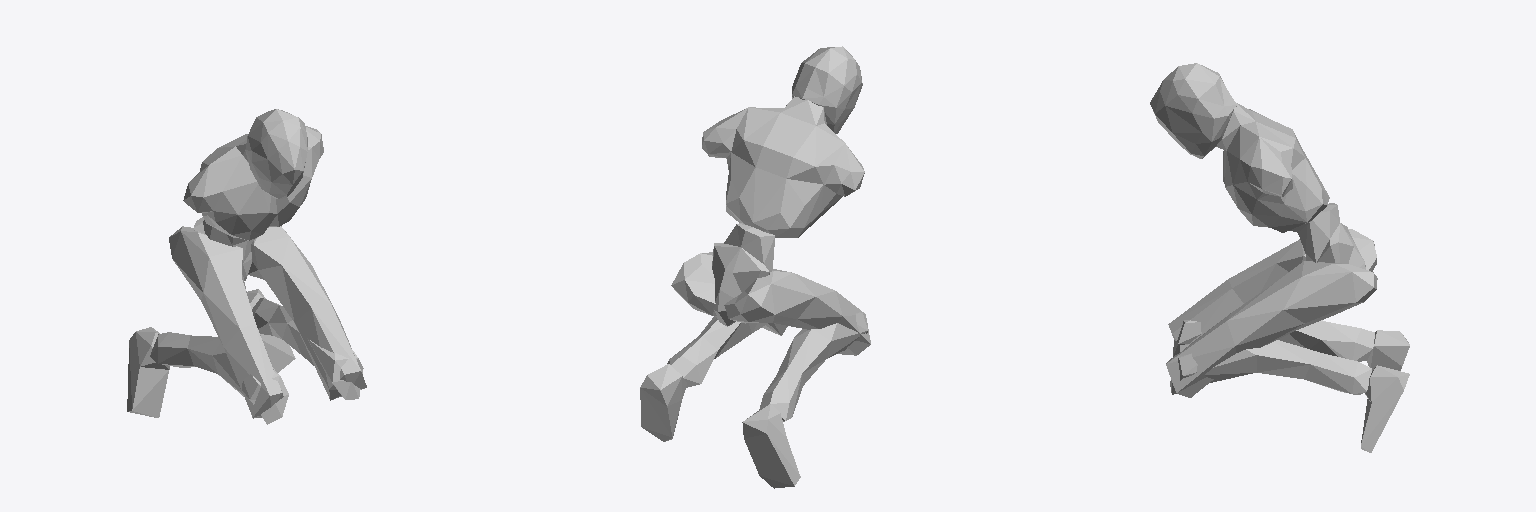
The model's file is filth53.obj.
3 renders of one model, left to right at view 1: azimuth 30°, elevation 25°; view 2: azimuth 150°, elevation 25°; view 3: azimuth 270°, elevation 25°, orthographic.
Parts seen in each view (by area): view 1: Melee_Husk; view 2: Melee_Husk; view 3: Melee_Husk.
Part boxes in pixels (x1,y1,x2,y2): Melee_Husk: (127,109,366,424); Melee_Husk: (640,46,870,488); Melee_Husk: (1150,63,1409,452).
Bounding box in the file's own units: 22.54 × 48.61 × 31.4.